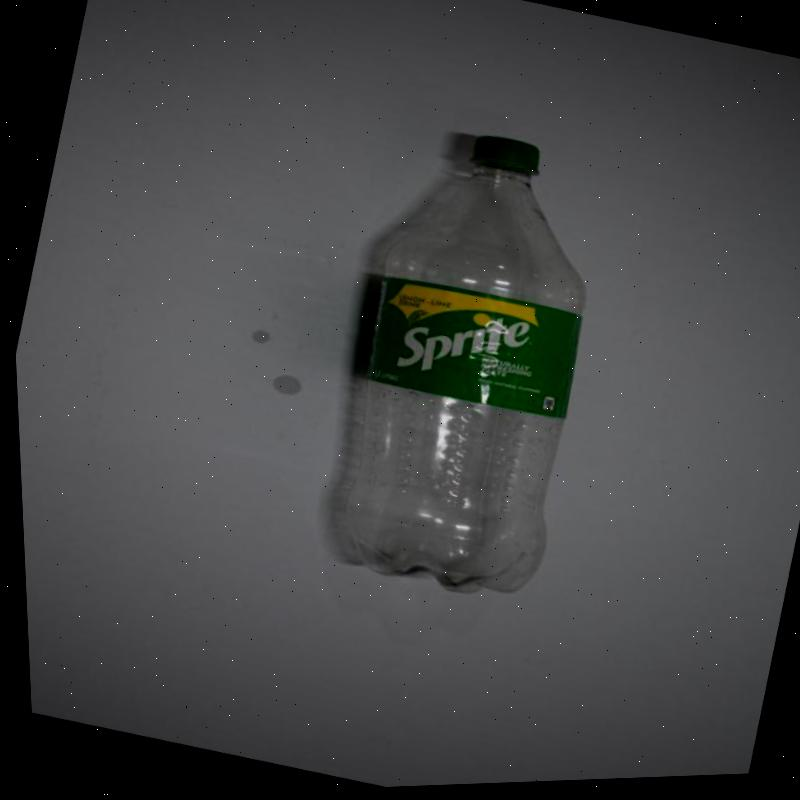botella: (286, 112, 637, 620)
